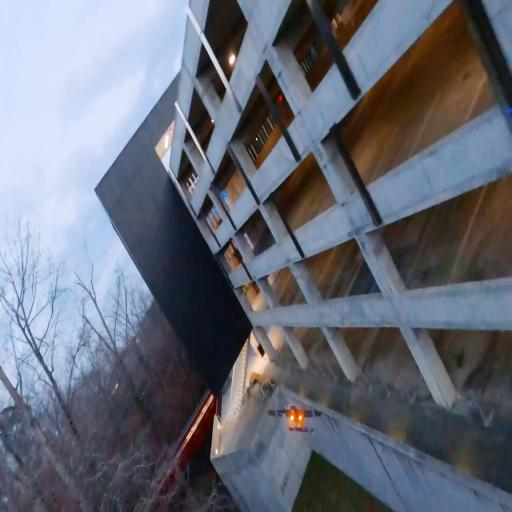uav: (264, 395, 326, 439)
